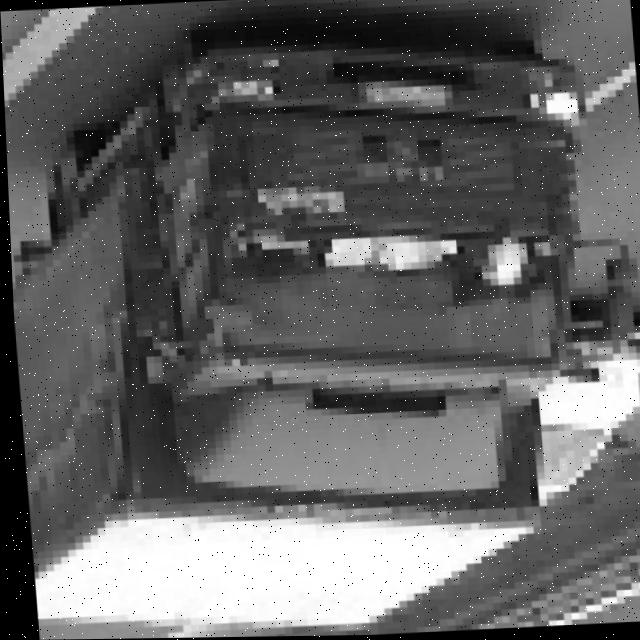truck: (92, 1, 640, 523)
